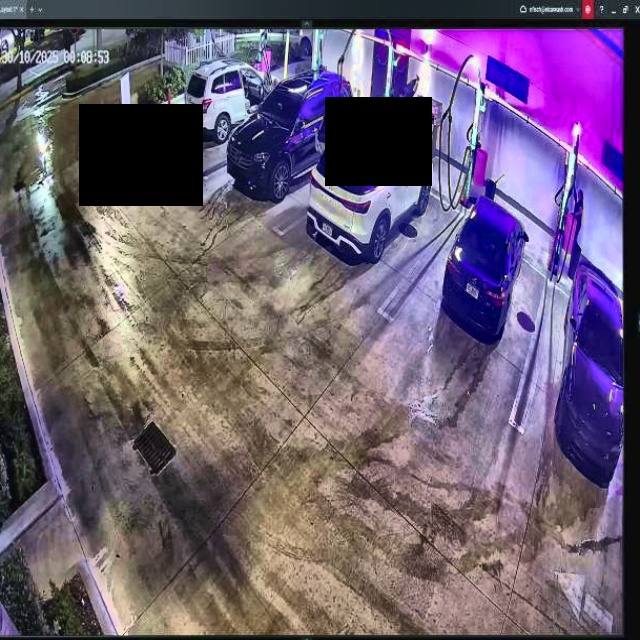Car: (307, 120, 432, 264), (225, 72, 357, 201), (444, 194, 529, 345)
